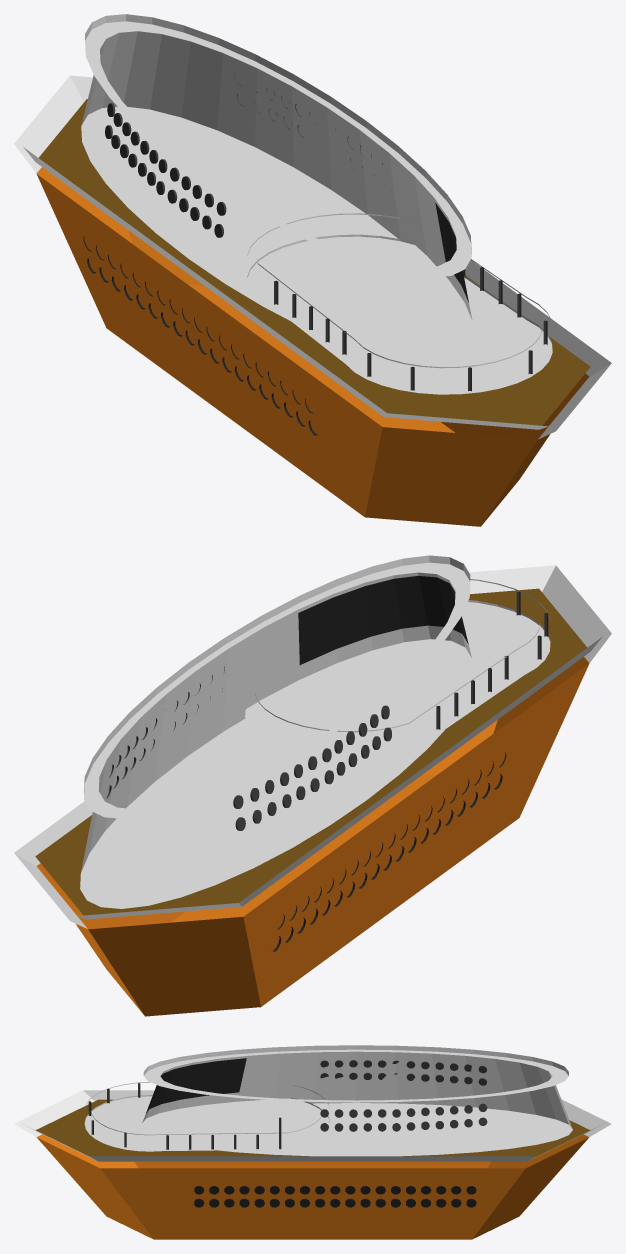
File: ship.gltf
3 renders of one model, top to bottom at view 1: azimuth 30°, elevation 25°; view 2: azimuth 150°, elevation 25°; view 3: azimuth 270°, elevation 25°, orthographic. The views are drawn at different scales.
Parts seen in each view (by area): view 1: Cylinder.020; view 2: Cylinder.020; view 3: Cylinder.020.
Part boxes in pixels (<box>): Cylinder.020: <box>14,14,611,526</box>; Cylinder.020: <box>14,555,611,1016</box>; Cylinder.020: <box>14,1045,611,1239</box>.
Size of the model in its own units: 21.02 by 21.15 by 79.07.
